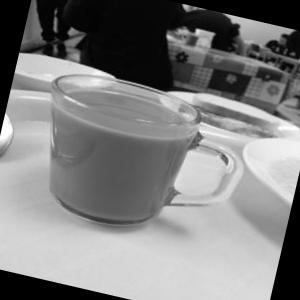coffee: (17, 50, 211, 264)
